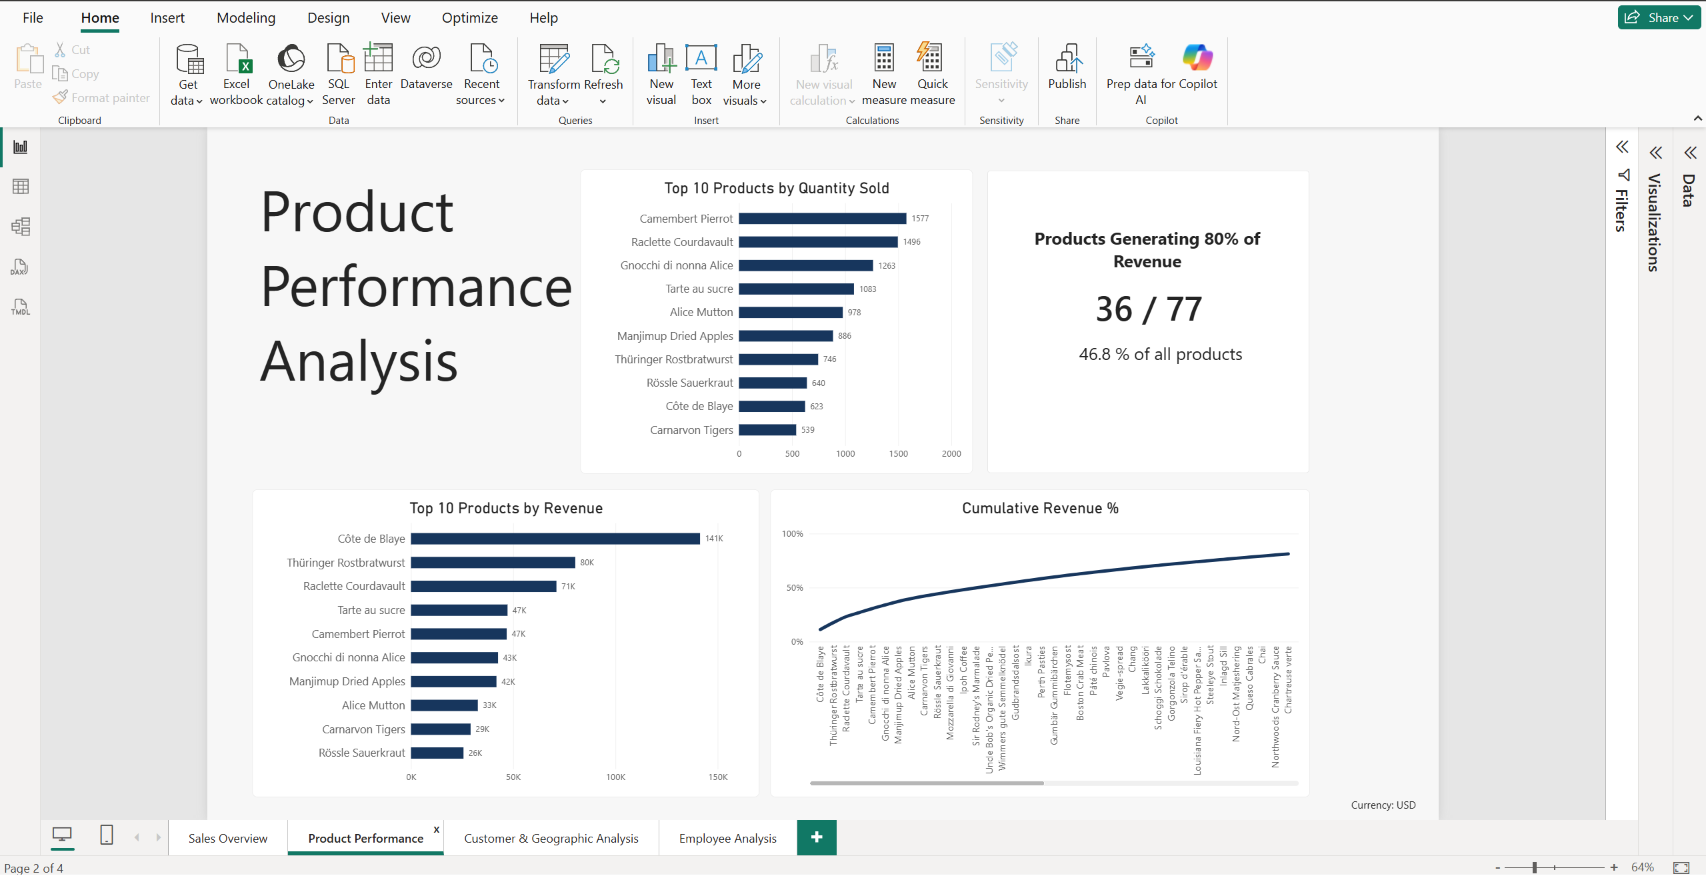

The dashboard page shown, as its layout file describes it:
{"tool":"powerbi","page":{"name":"Product Performance","canvas":[1920,1080],"ordinal":1},"visuals":[{"type":"textbox","box":[81.7,67.8,523.2,375.4],"z":0},{"type":"clusteredBarChart","title":"Top 10 Products by Revenue ","fields":{"Category":["public products.productName"],"Y":["public order_details.Total Revenue"]},"box":[70.3,564.1,790.7,479.7],"z":1000},{"type":"clusteredBarChart","title":"Top 10 Products by Quantity Sold ","fields":{"Category":["public products.productName"],"Y":["public order_details.Total Quantity Sold"]},"box":[582.3,66,611.8,474.5],"z":2000},{"type":"cardVisual","title":"Products Generating 80 % of Revenue","fields":{"Data":["public orders.Pareto Summary"]},"box":[1216.7,67.8,502.3,472.8],"z":3000},{"type":"textbox","box":[83,899,791,181],"z":4000},{"type":"textbox","box":[1284.5,333.9,404.2,142.3],"z":5000},{"type":"textbox","box":[985.8,899.7,732.7,49.2],"z":6000},{"type":"textbox","box":[1284.5,154.7,361.5,78.2],"z":7000},{"type":"lineChart","title":"Cumulative Revenue %","fields":{"Category":["public products.productName"],"Y":["public products.Cumulative Revenue %"]},"box":[877.7,564.9,841.2,479.7],"z":8000},{"type":"textbox","box":[1783.3,1044.6,123.4,22.6],"z":9000}]}

Visuals, with their boxes on the page's 1920x1080 design canvas (x1, y1, x2, y2). These are canvas units, not pixel positions in the 1706x875 screenshot, which may show the page scaled, cropped or inside an application window:
textbox: {"left": 82, "top": 68, "right": 605, "bottom": 443}
"Top 10 Products by Revenue " clusteredBarChart: {"left": 70, "top": 564, "right": 861, "bottom": 1044}
"Top 10 Products by Quantity Sold " clusteredBarChart: {"left": 582, "top": 66, "right": 1194, "bottom": 540}
"Products Generating 80 % of Revenue" cardVisual: {"left": 1217, "top": 68, "right": 1719, "bottom": 541}
textbox: {"left": 83, "top": 899, "right": 874, "bottom": 1080}
textbox: {"left": 1284, "top": 334, "right": 1689, "bottom": 476}
textbox: {"left": 986, "top": 900, "right": 1718, "bottom": 949}
textbox: {"left": 1284, "top": 155, "right": 1646, "bottom": 233}
"Cumulative Revenue %" lineChart: {"left": 878, "top": 565, "right": 1719, "bottom": 1045}
textbox: {"left": 1783, "top": 1045, "right": 1907, "bottom": 1067}
